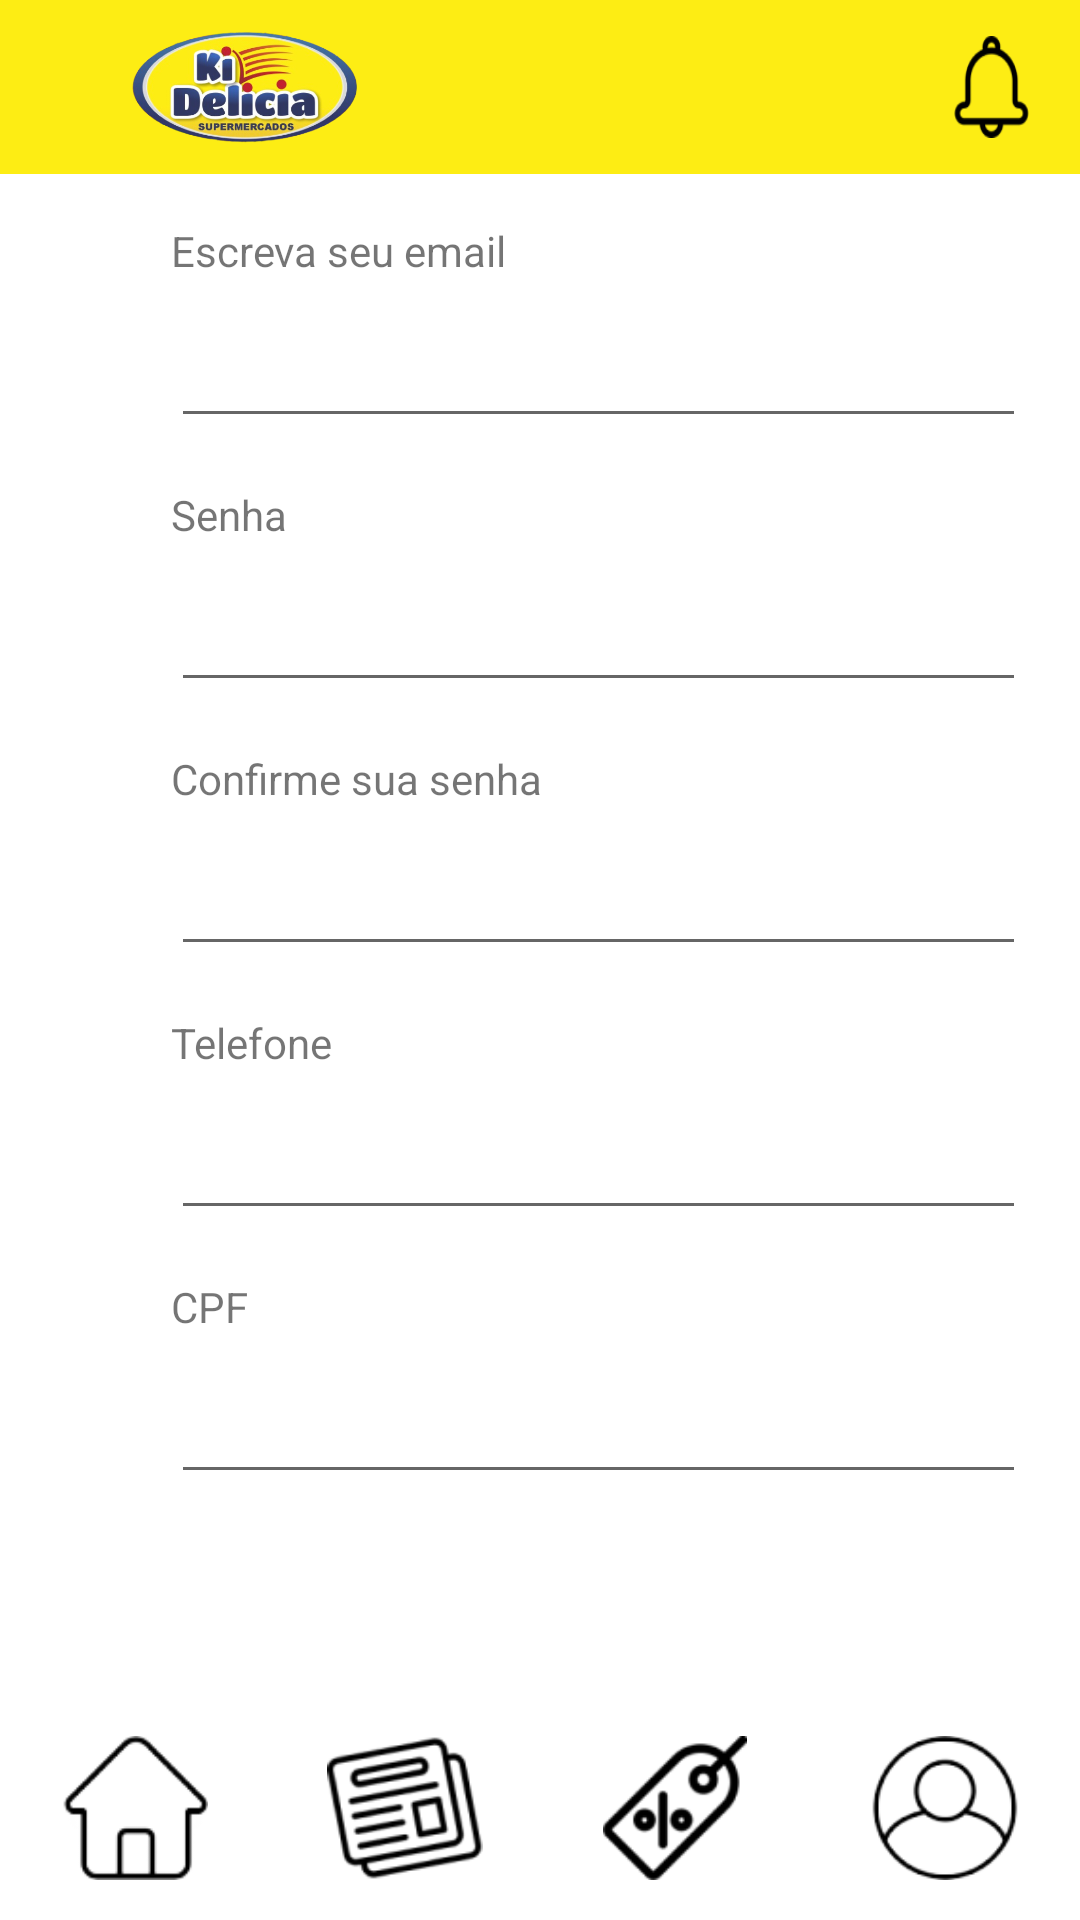

Point at icon controls on the screen. Image size 1080×1920, points as point (x, y).
casa: point (136, 1808)
conta: point (945, 1808)
jornal: point (405, 1808)
notificacao: point (991, 87)
oferta: point (675, 1808)
